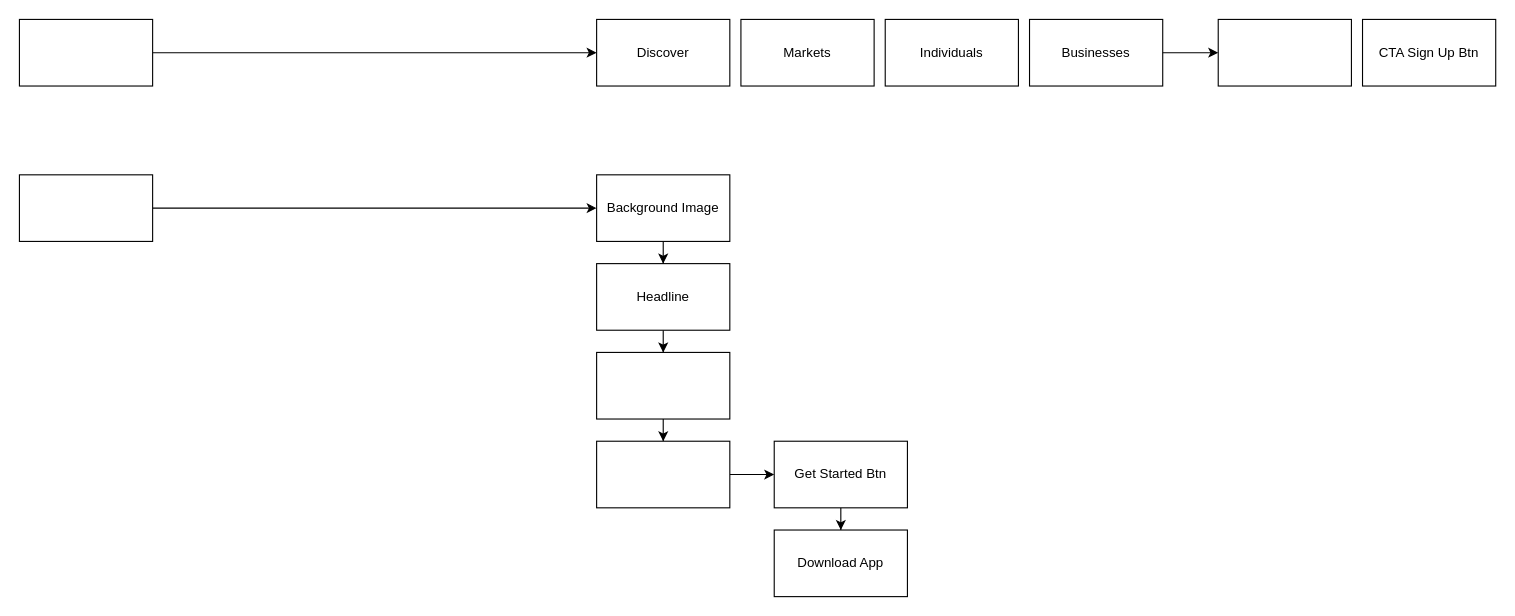
The diagram is 1515 pixels wide and 616 high, and some of its shapes have lost their labels. Here are the shapes that lost their labels. From the top down, the centre of each, then its label:
(x=85, y=52): Logo
(x=1284, y=52): CTA Login Btn
(x=85, y=207): Hero Section
(x=663, y=385): Sub-Headline
(x=663, y=474): CTA Links
